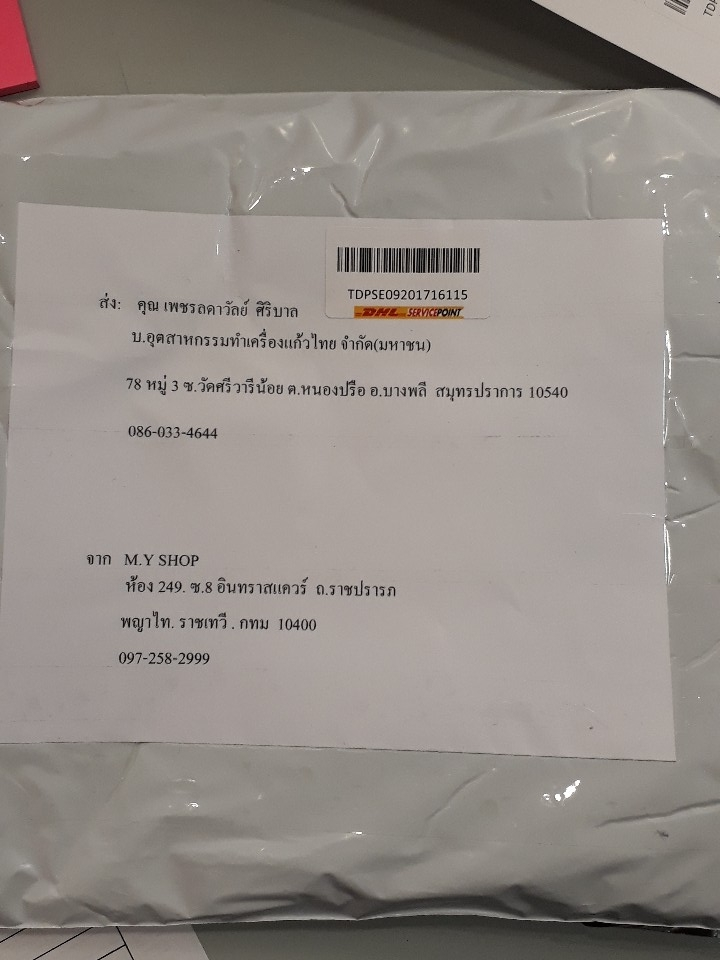ba: (323, 223, 499, 322)
txt: (95, 288, 587, 455), (86, 544, 413, 688)
